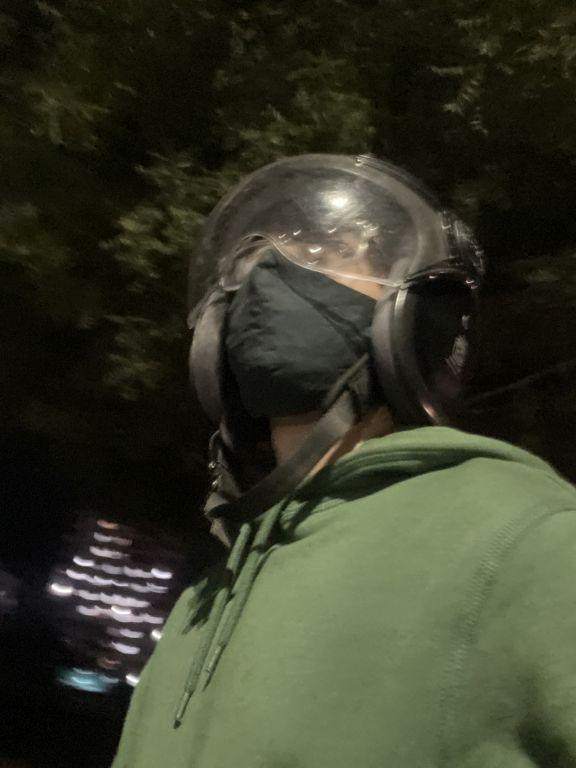helmet: (159, 134, 517, 457)
